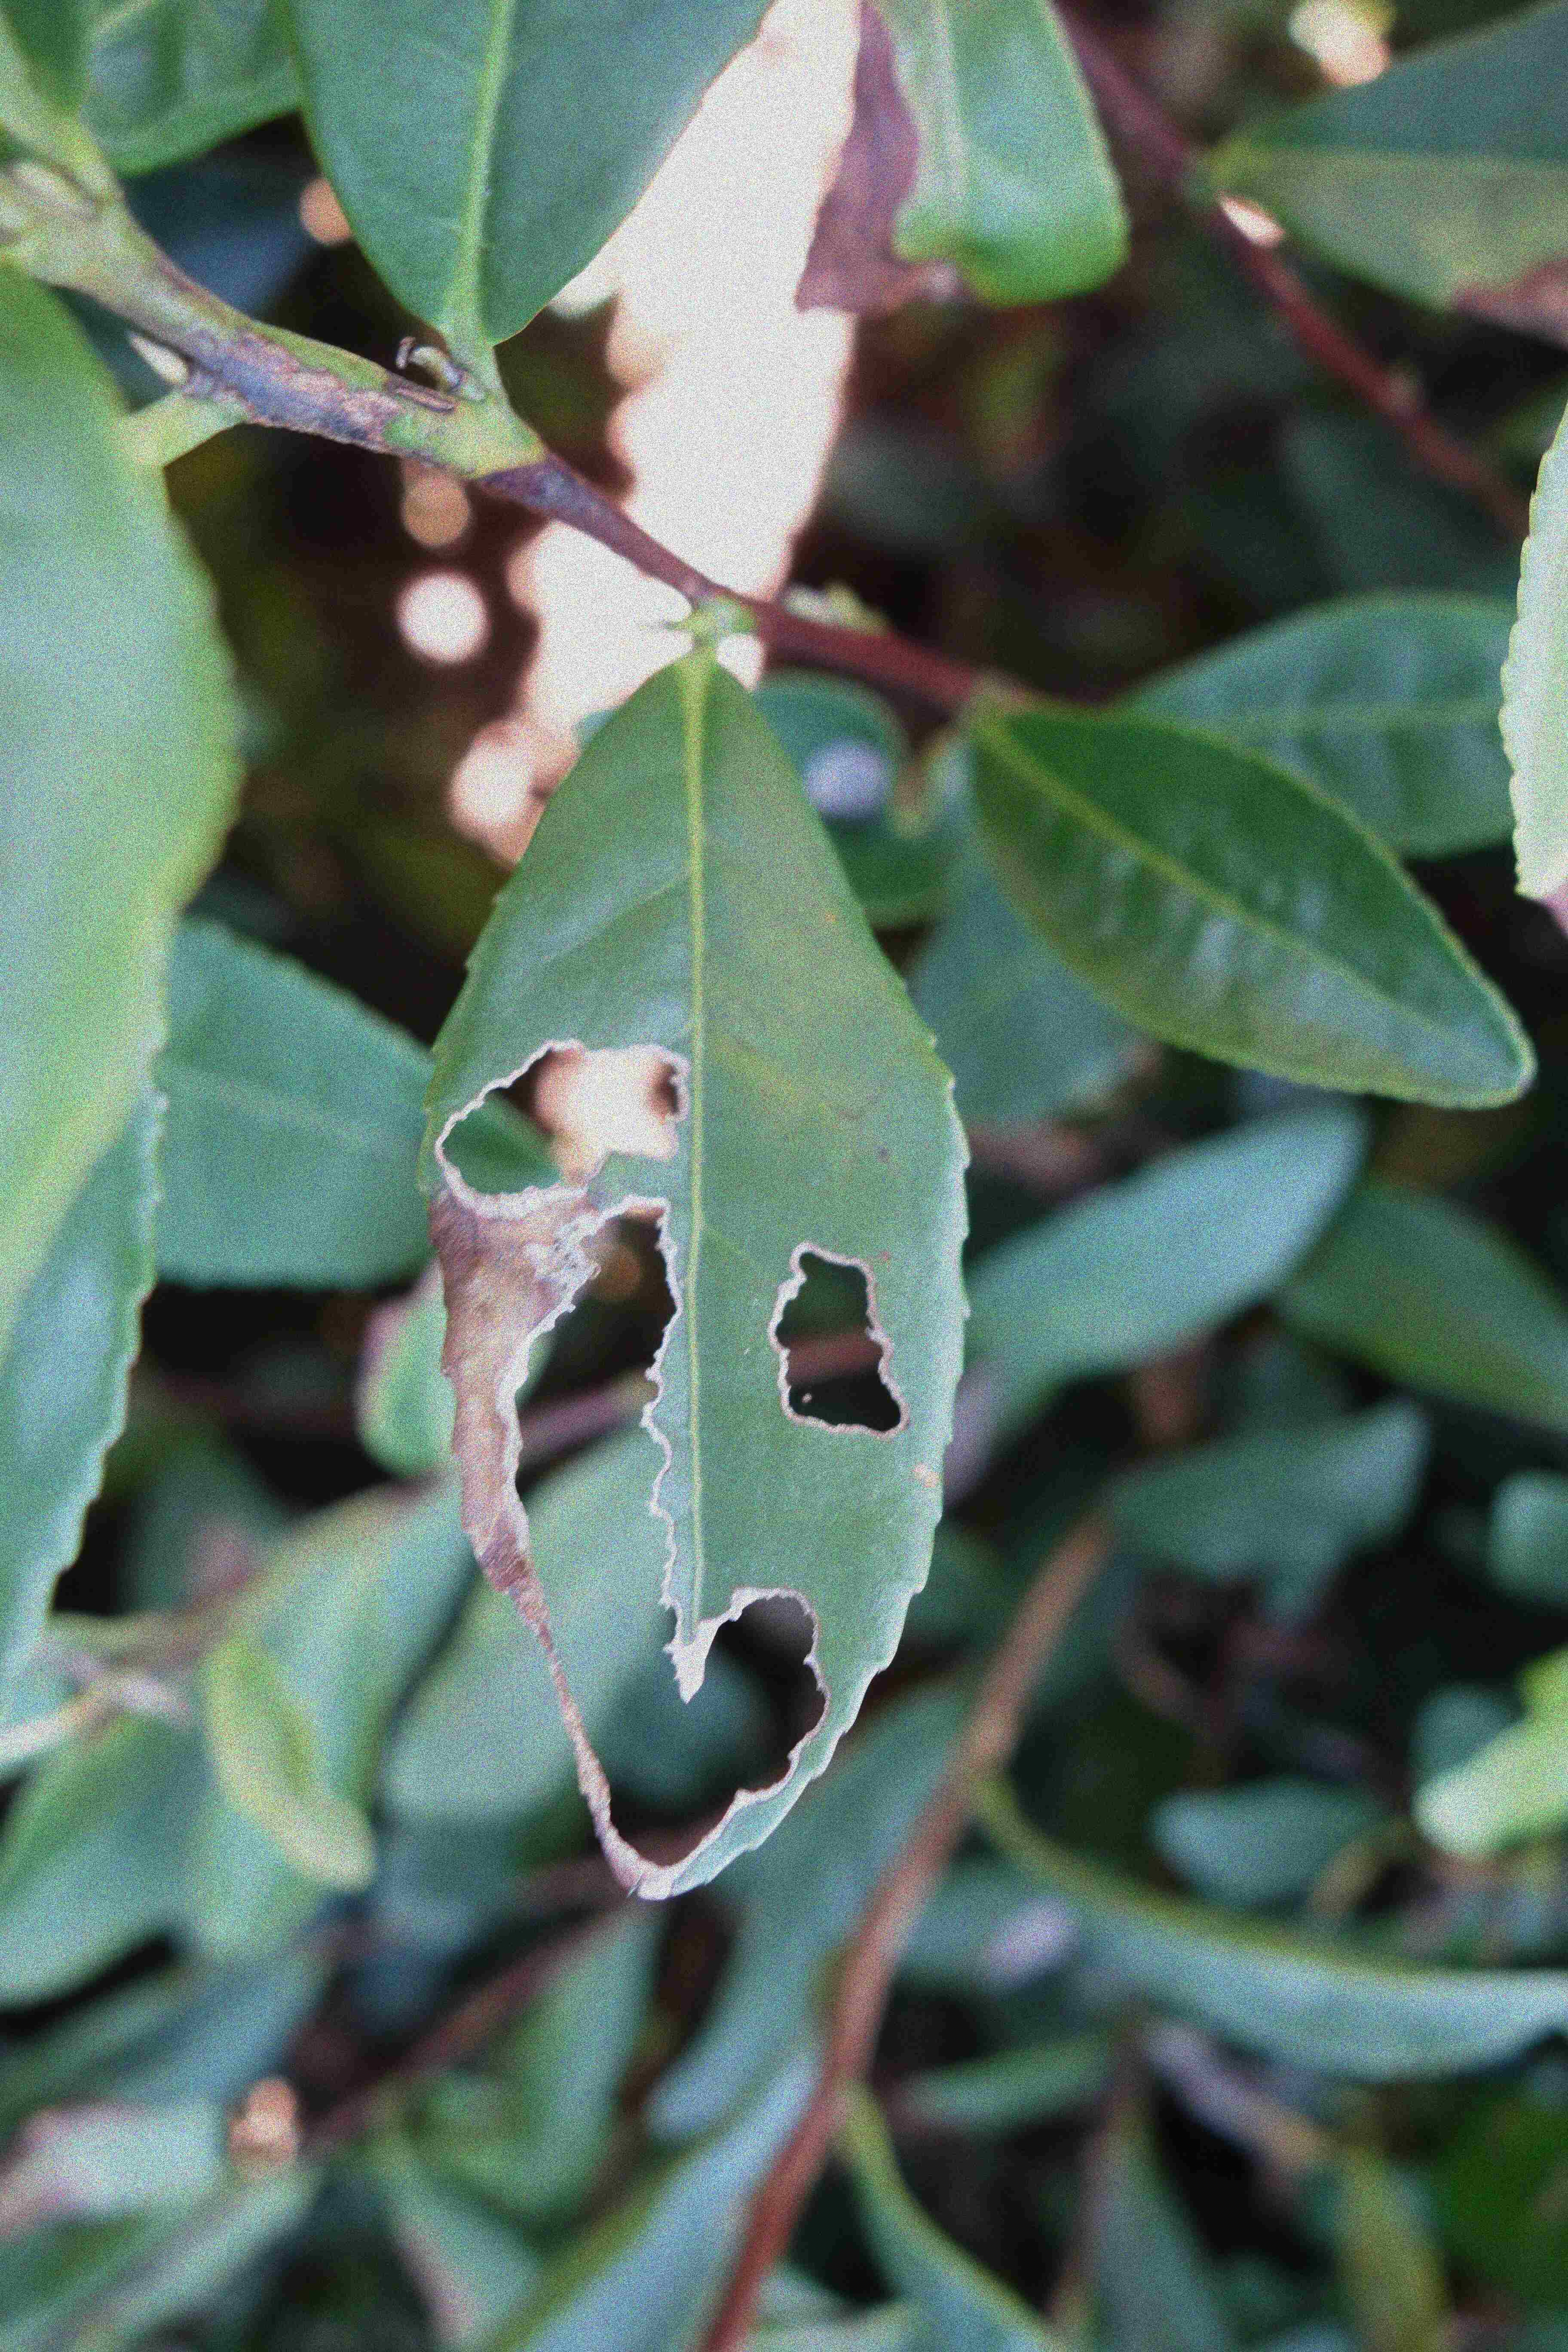chihuo_high: (413, 658, 976, 1904)
healthy: (976, 700, 1540, 1109)
tanju_high: (1211, 23, 1568, 334), (794, 3, 1130, 322)
